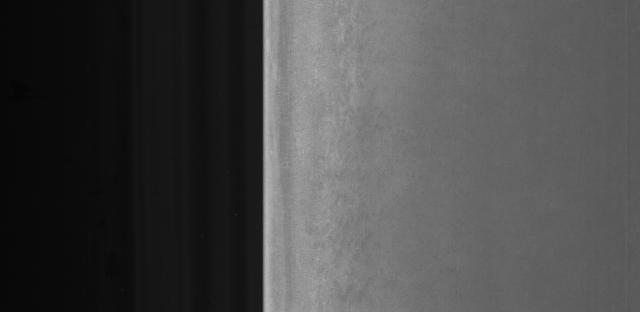silk_spot: (315, 46, 391, 251)
